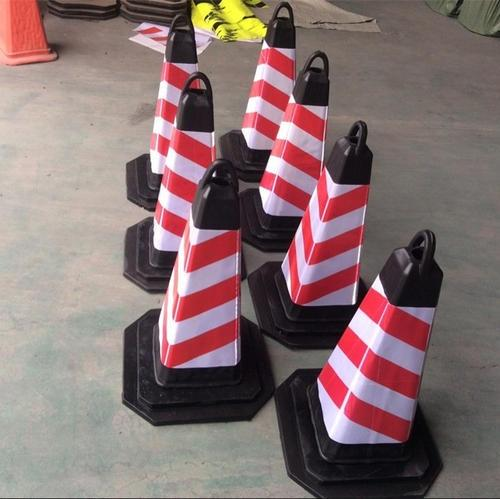cone_barrel: (301, 239, 456, 469), (132, 159, 262, 417), (271, 121, 376, 314), (139, 81, 220, 263), (255, 56, 332, 229), (137, 18, 200, 193), (231, 6, 304, 156)
